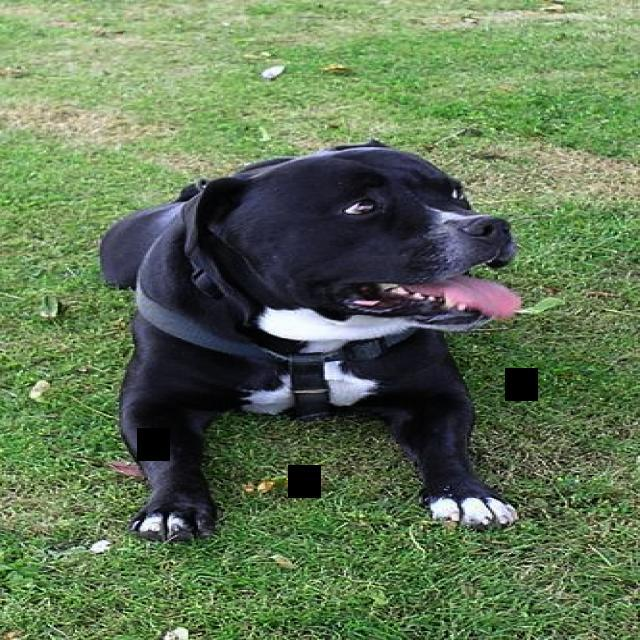adult_dog: (95, 141, 528, 541)
